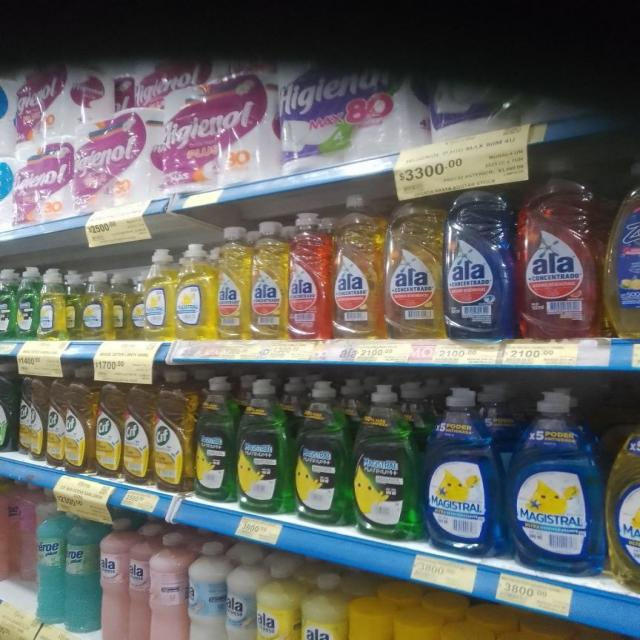ala_conc_amarillo: (386, 193, 444, 341), (332, 192, 383, 340), (251, 219, 287, 340), (216, 224, 250, 340)
ala_conc_azul: (445, 186, 515, 341)
ala_conc_rojo: (517, 155, 602, 341), (288, 211, 330, 341)
ala_crem_amarillo: (256, 555, 300, 640), (301, 570, 345, 640), (346, 576, 391, 640), (392, 585, 440, 640)
ala_crem_blanco: (188, 540, 225, 640), (226, 547, 255, 640)
ala_crem_rosado: (150, 530, 187, 640), (100, 519, 128, 640), (127, 521, 149, 640)
cif_conc_bot_amarilla: (153, 368, 193, 493), (124, 370, 152, 486), (65, 365, 93, 474), (95, 368, 122, 479), (18, 366, 44, 462), (46, 367, 64, 467)
cif_conc_botella_verde: (0, 361, 16, 453)
heroe: (64, 512, 100, 637), (34, 500, 64, 628)
magistral_con_amarillo: (607, 386, 640, 598), (176, 243, 214, 341), (145, 248, 174, 342), (39, 266, 66, 342), (82, 270, 110, 341), (110, 271, 128, 341), (128, 271, 144, 341), (66, 269, 81, 340)
magistral_con_azul: (509, 389, 604, 575), (424, 386, 502, 558)
magistral_con_verde: (353, 383, 420, 542), (295, 379, 350, 528), (238, 377, 291, 515)
zorro: (606, 153, 640, 339)
